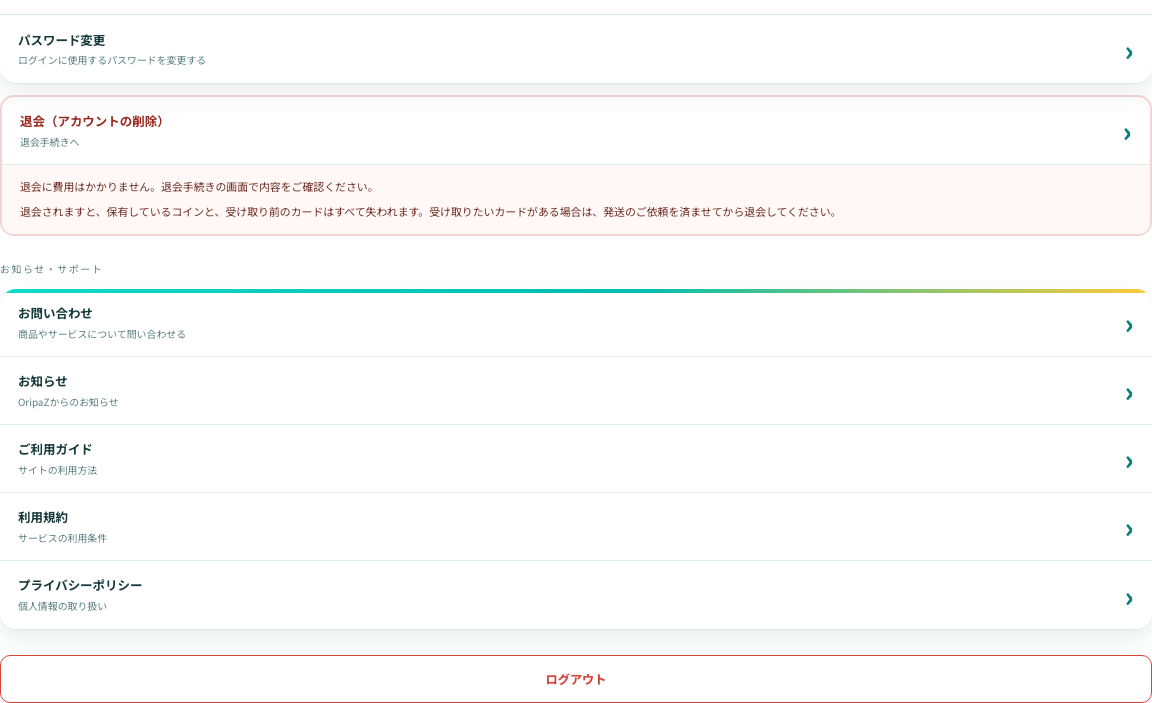
Test case: my page top › logs out through the existing Session boundary
The width and height of the screenshot is (1152, 703).
(page scrolled)
Click the button "ログアウト" at (576, 679), box x1=0 y1=655 x2=1151 y2=702
(page scrolled)
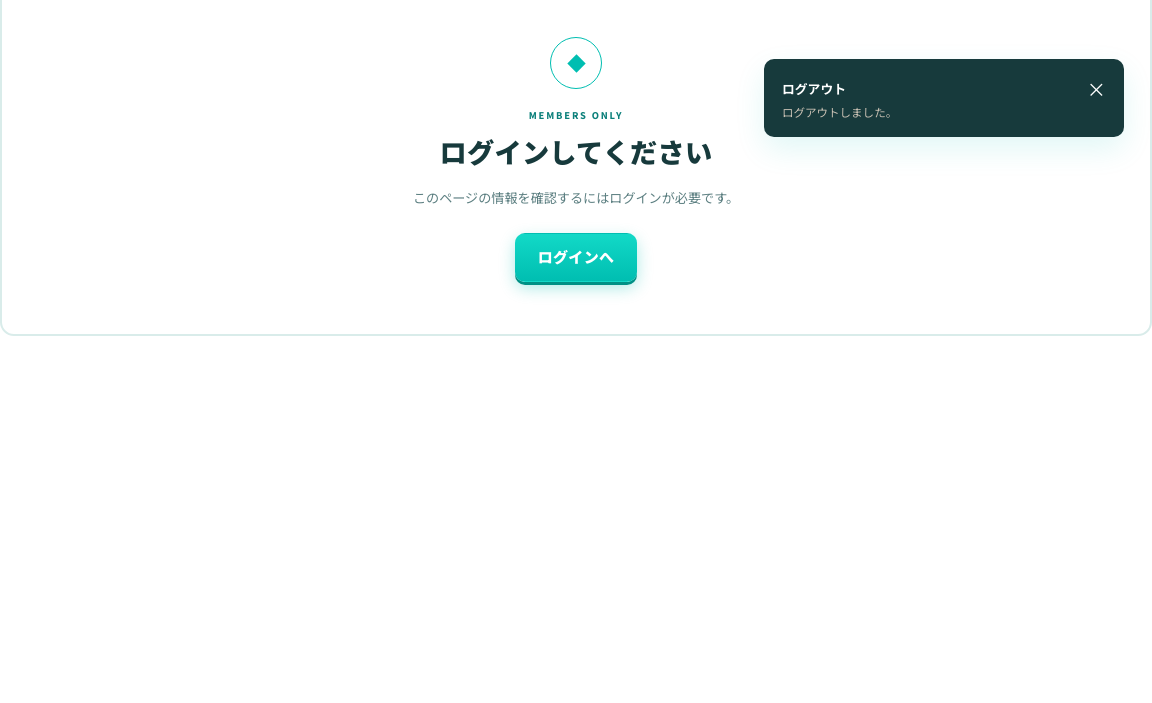
Result: the heading "ログインしてください" is shown at x1=440 y1=131 x2=712 y2=172
